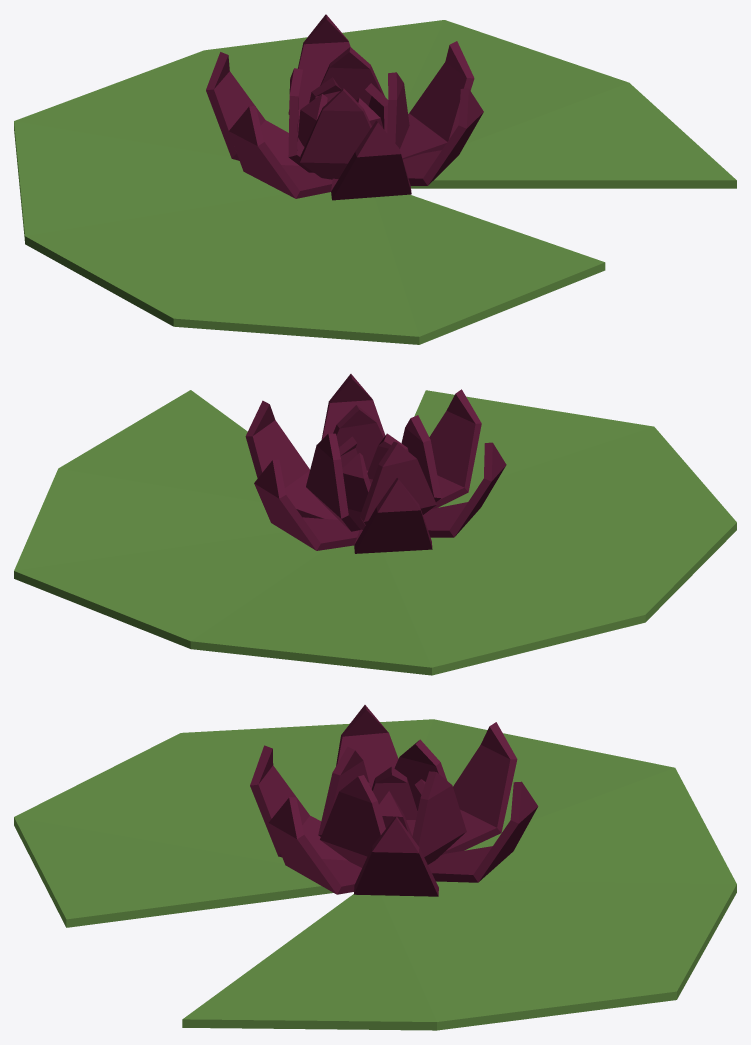
File: waterplant_lilypad.glb
3 renders of one model, top to bottom at view 1: azimuth 30°, elevation 25°; view 2: azimuth 150°, elevation 25°; view 3: azimuth 270°, elevation 25°, orthographic. The views are drawn at different scales.
Parts seen in each view (by area): view 1: Lilypad_Cylinder.016; view 2: Lilypad_Cylinder.016; view 3: Lilypad_Cylinder.016.
Boxes of the visible parts, x1=… form: Lilypad_Cylinder.016: x1=14, y1=14, x2=736, y2=344; Lilypad_Cylinder.016: x1=14, y1=374, x2=736, y2=675; Lilypad_Cylinder.016: x1=14, y1=705, x2=736, y2=1030.
Bounding box in the file's own units: 0.5421 × 0.1 × 0.5384.
